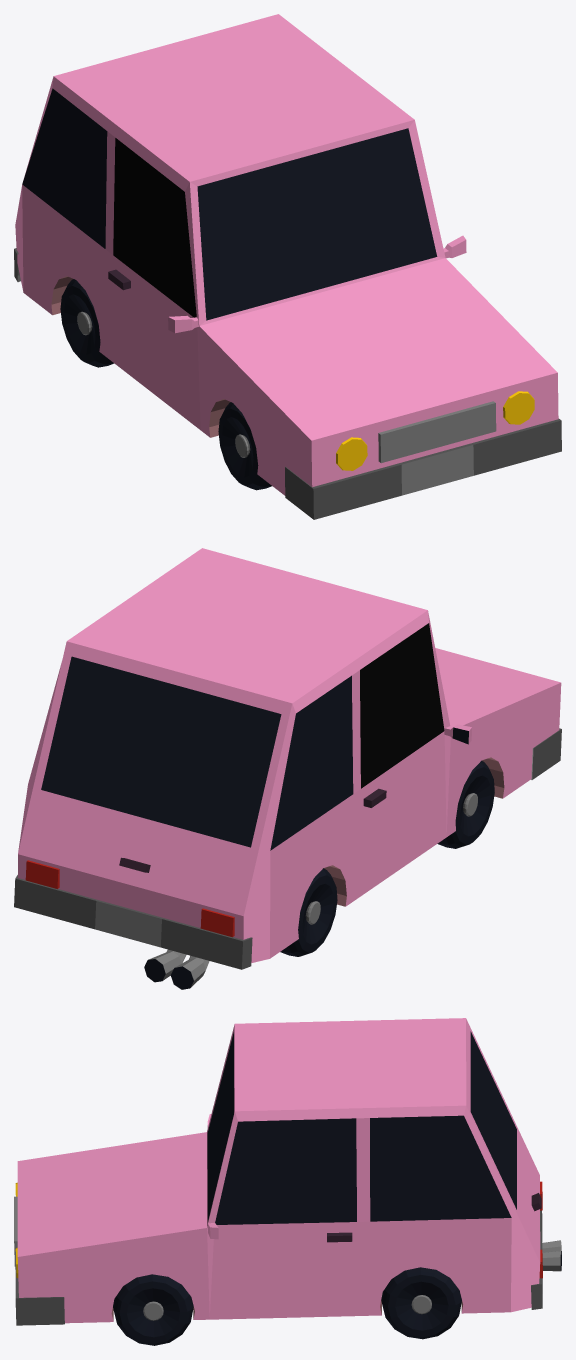
Rendered from CarAnimation.fbx.
3 views of the same model, one above another, from view 1: azimuth 30°, elevation 25°; view 2: azimuth 150°, elevation 25°; view 3: azimuth 270°, elevation 25° (orthographic). The views are drawn at different scales.
Visible parts, largest first — view 1: Car; view 2: Car; view 3: Car.
Boxes of the visible parts, <box> form: Car: <box>14,14,561,519</box>; Car: <box>14,548,561,989</box>; Car: <box>14,1018,561,1345</box>.
Size of the model in its own units: 1196 by 1109 by 2255.
